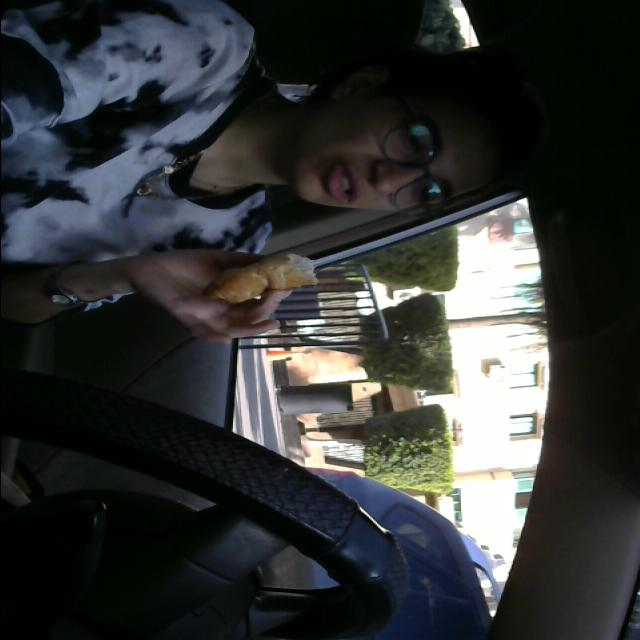eating: (208, 245, 332, 313)
